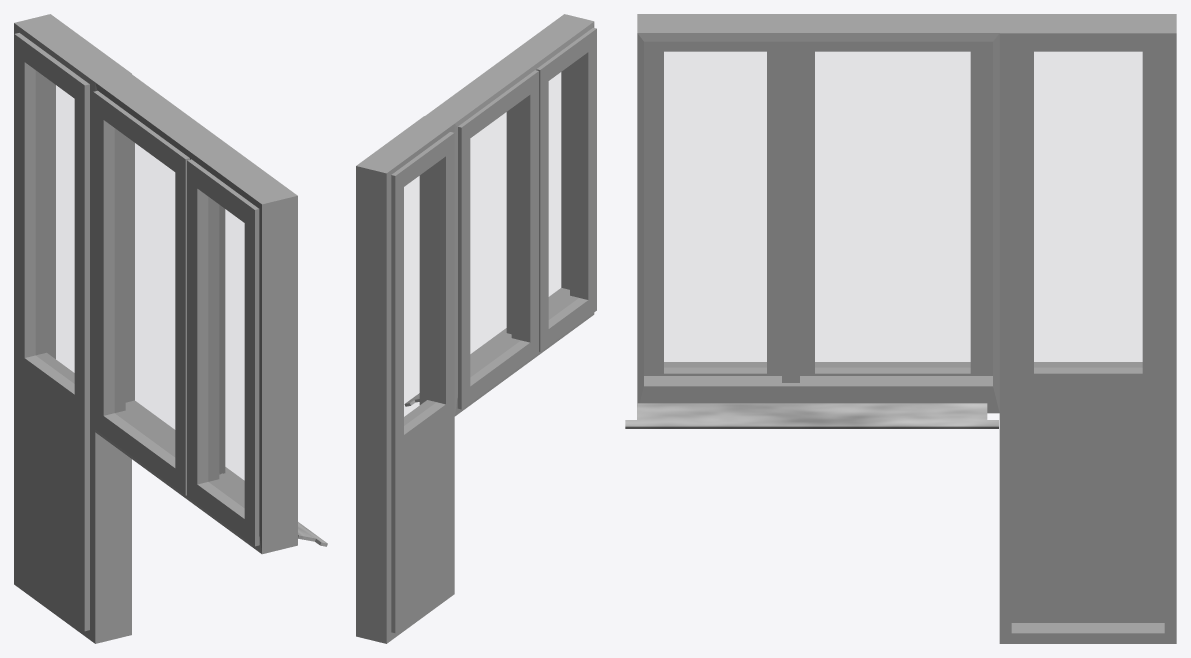
File: Window_Balkon_Rec.fbx
3 views of the same model, side by side, from view 1: azimuth 30°, elevation 25°; view 2: azimuth 150°, elevation 25°; view 3: azimuth 270°, elevation 25° (orthographic). The views are drawn at different scales.
Parts seen in each view (by area): view 1: Window_rectangle_south_2-16.016; view 2: Window_rectangle_south_2-16.016; view 3: Window_rectangle_south_2-16.016.
Part boxes in pixels (x1=…): Window_rectangle_south_2-16.016: x1=14, y1=14, x2=327, y2=643; Window_rectangle_south_2-16.016: x1=356, y1=14, x2=596, y2=643; Window_rectangle_south_2-16.016: x1=625, y1=14, x2=1176, y2=643.
Bounding box in the file's own units: 27.43 × 225 × 184.
Materials: 3 (3 with a texture image).
